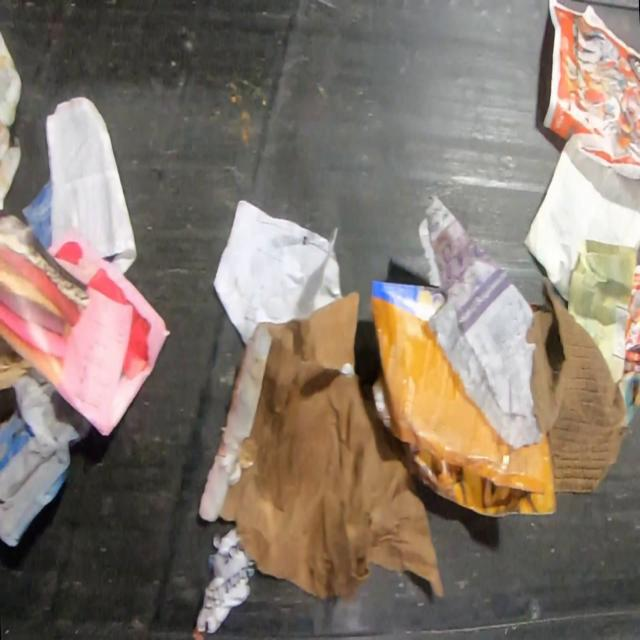cardboard: (368, 281, 556, 517), (526, 275, 633, 494)
